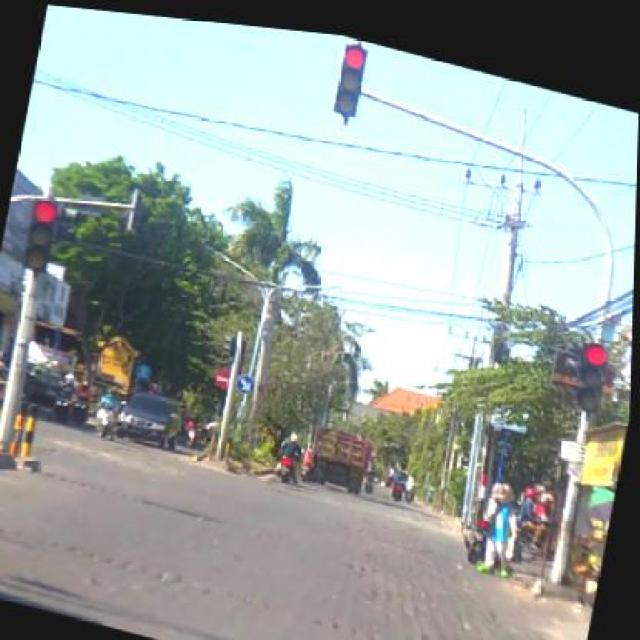red_light: (24, 190, 62, 276), (332, 30, 370, 110), (572, 328, 611, 404)
